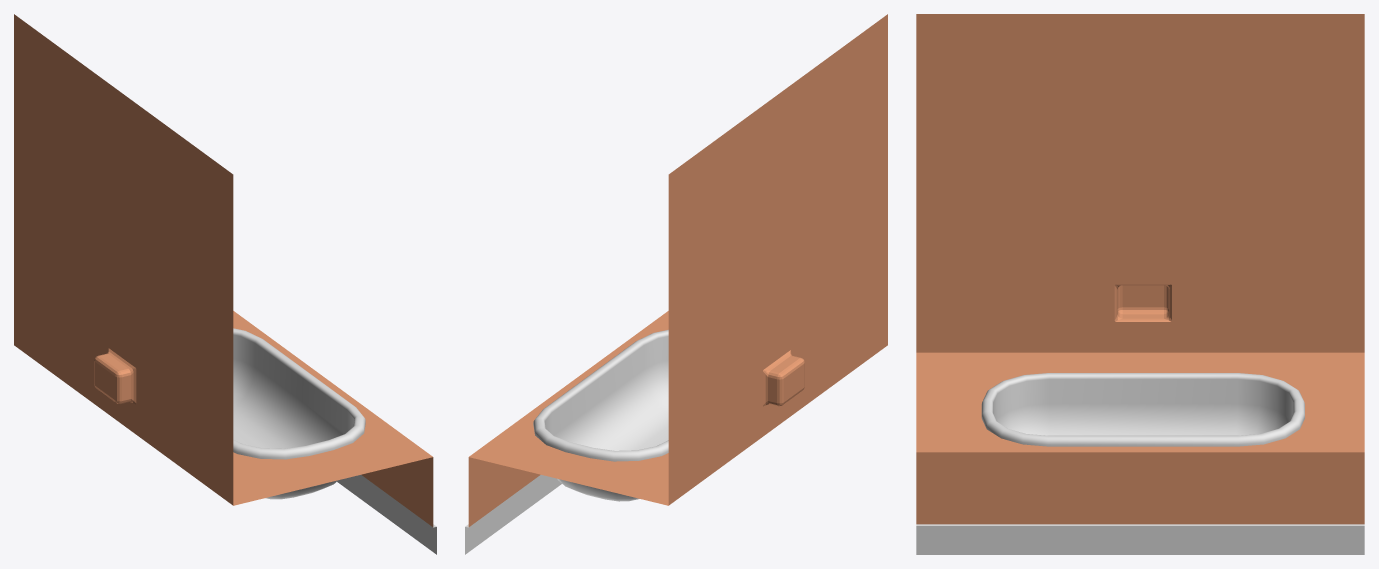
Rendered from Banheira.fbx.
3 views of the same model, side by side, from view 1: azimuth 30°, elevation 25°; view 2: azimuth 150°, elevation 25°; view 3: azimuth 270°, elevation 25° (orthographic). The views are drawn at different scales.
Parts seen in each view (by area): view 1: Plane.001; view 2: Plane.001; view 3: Plane.001.
Part boxes in pixels (bbox=[...]): Plane.001: bbox=[14, 14, 436, 554]; Plane.001: bbox=[465, 14, 887, 554]; Plane.001: bbox=[916, 14, 1364, 554].
Size of the model in its own units: 322 by 600 by 555.
